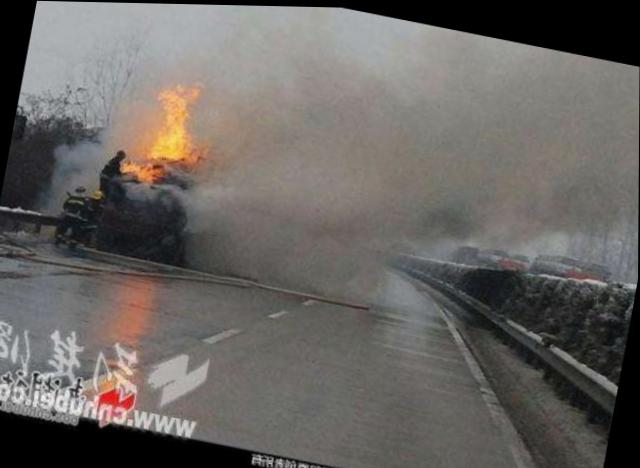fire: (110, 69, 216, 194)
